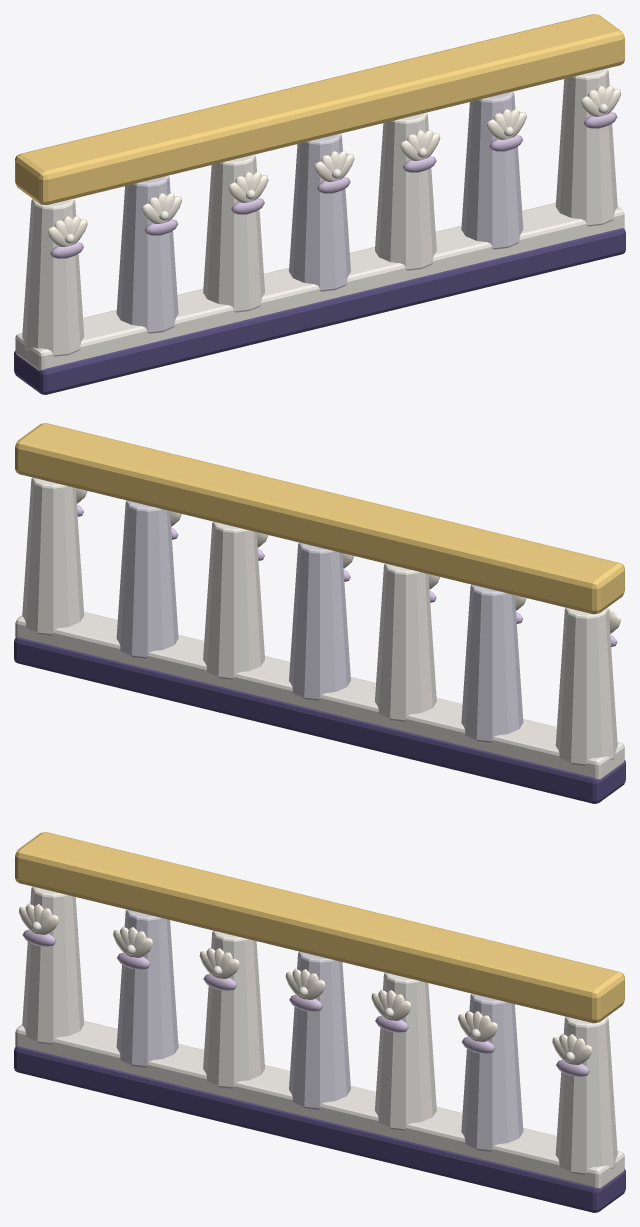
File: pearl_balustrade.glb
3 views of the same model, one above another, from view 1: azimuth 30°, elevation 25°; view 2: azimuth 150°, elevation 25°; view 3: azimuth 330°, elevation 25° (orthographic).
Visible parts, largest first — view 1: pearl_balustrade.001; view 2: pearl_balustrade.001; view 3: pearl_balustrade.001.
Boxes of the visible parts, x1,y1,x2,y2 form: pearl_balustrade.001: (14,14,625,394); pearl_balustrade.001: (14,423,625,803); pearl_balustrade.001: (14,832,625,1212).
Size of the model in its own units: 9.04 by 3.27 by 0.9223.
